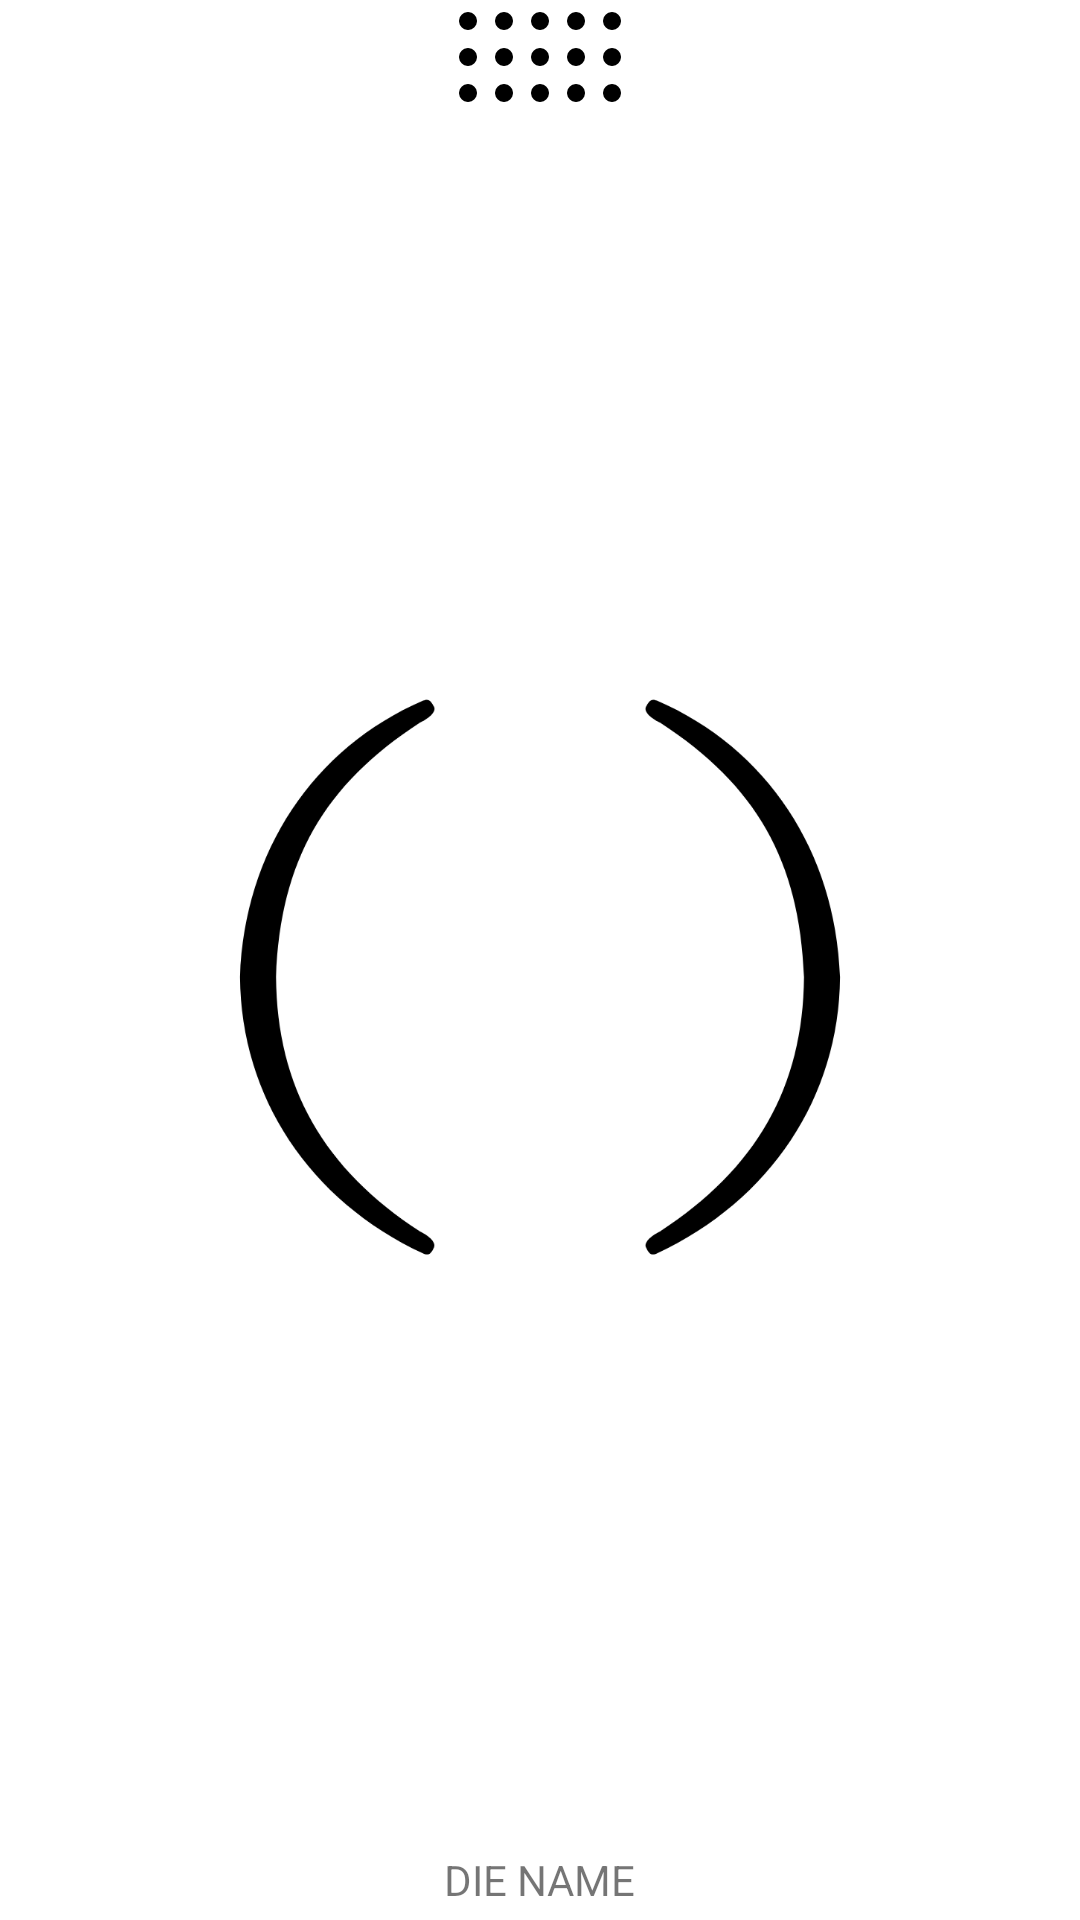

Where to tap for icons on this 1080×1920 app screen, as (x,y):
Drag and drop handle for die: (540,57)
